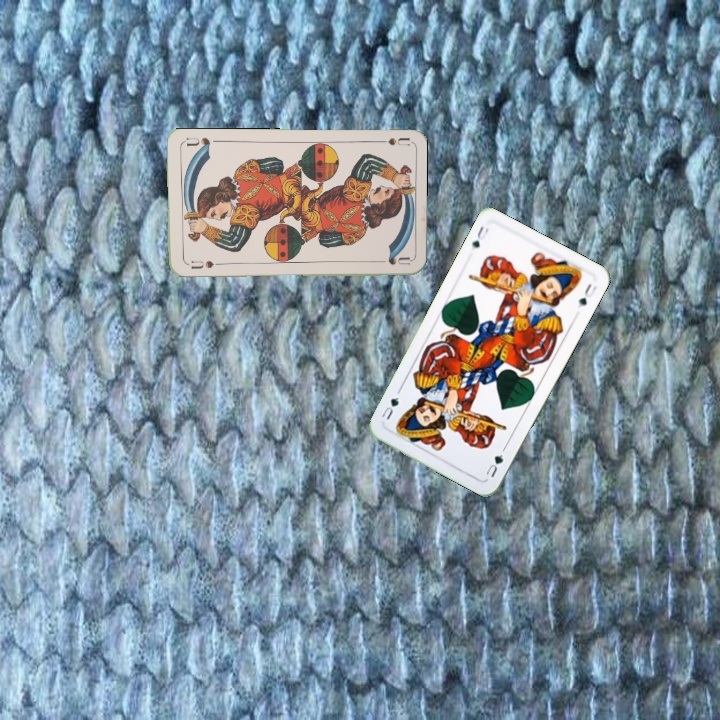GU: (482, 444, 508, 480), (467, 222, 491, 250)
SU: (370, 134, 411, 148), (187, 256, 222, 271)
